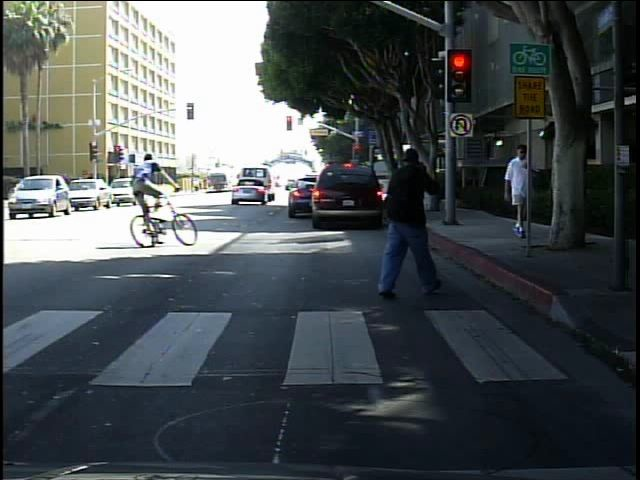person: (371, 136, 442, 302), (112, 135, 175, 238), (552, 138, 588, 244), (503, 139, 536, 239)
